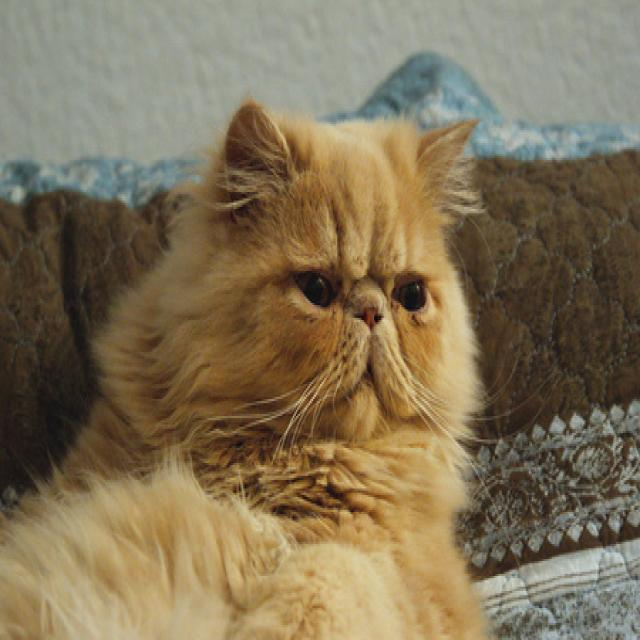Persian: (0, 91, 512, 640)
